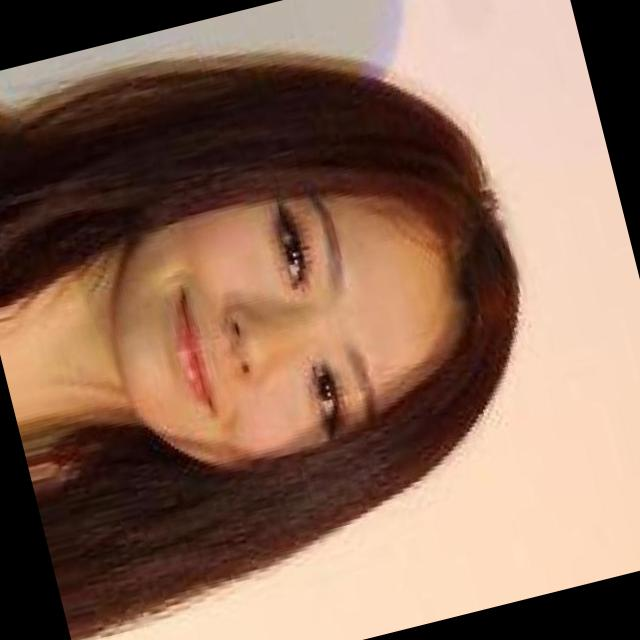bareface: (82, 134, 508, 497)
